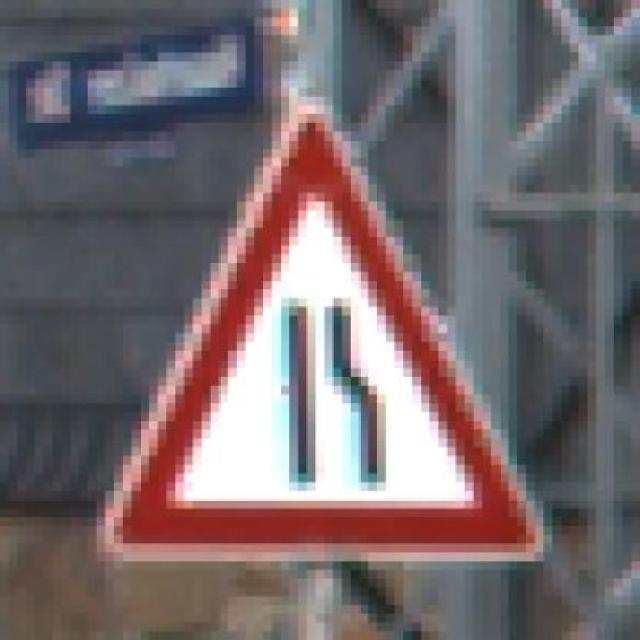-Road narrows on right: (95, 87, 559, 570)
